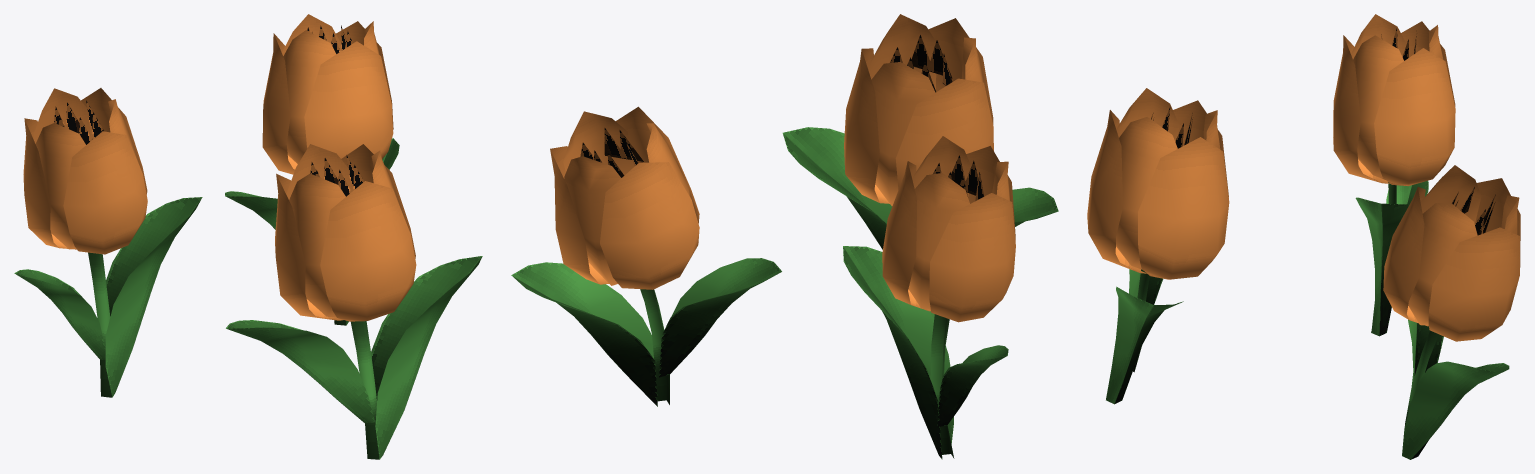
Rendered from flower-tulip.glb.
The picture shows the model from 3 angles, left to right: view 1: azimuth 30°, elevation 25°; view 2: azimuth 150°, elevation 25°; view 3: azimuth 270°, elevation 25°; orthographic projection. The views are drawn at different scales.
Visible parts, largest first — view 1: PltFlwTulip__PltFlwTulip2_node2, PltFlwTulip__PltFlwTulip2_node1; view 2: PltFlwTulip__PltFlwTulip2_node2, PltFlwTulip__PltFlwTulip2_node1; view 3: PltFlwTulip__PltFlwTulip2_node2, PltFlwTulip__PltFlwTulip2_node1.
Part boxes in pixels (<box>): PltFlwTulip__PltFlwTulip2_node2: <box>23,14,416,321</box>; PltFlwTulip__PltFlwTulip2_node1: <box>14,138,482,459</box>; PltFlwTulip__PltFlwTulip2_node2: <box>550,14,1015,322</box>; PltFlwTulip__PltFlwTulip2_node1: <box>511,127,1058,459</box>; PltFlwTulip__PltFlwTulip2_node2: <box>1087,14,1520,341</box>; PltFlwTulip__PltFlwTulip2_node1: <box>1106,180,1509,459</box>.
Bounding box in the file's own units: 0.9863 × 0.6641 × 0.8682.
2 materials, 2 textured.
